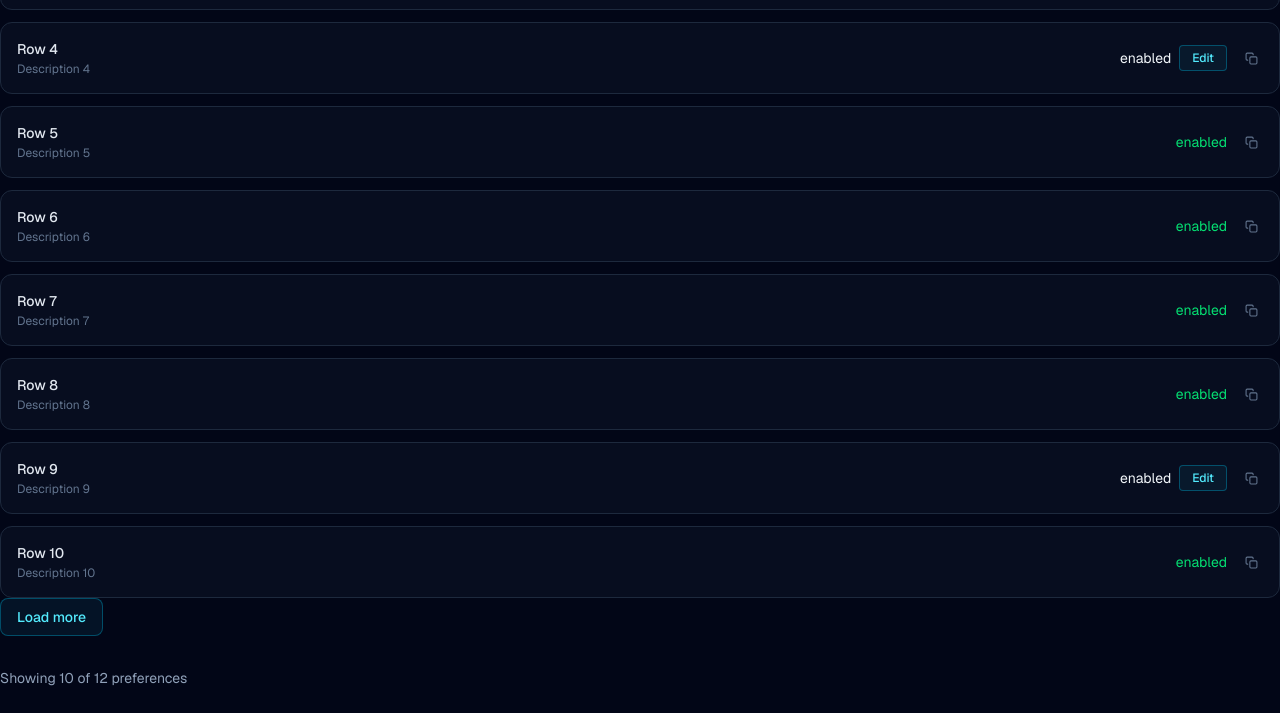
Test: SettingsPage – end-of-list behavior › hides the Load more button once every row is visible (off-by-one middle page)
(page scrolled)
What coordinates should you click on to do the following:
click the button with test id "settings-load-more"
I would click on:
 (52, 617)
Its box is [0, 598, 103, 636].
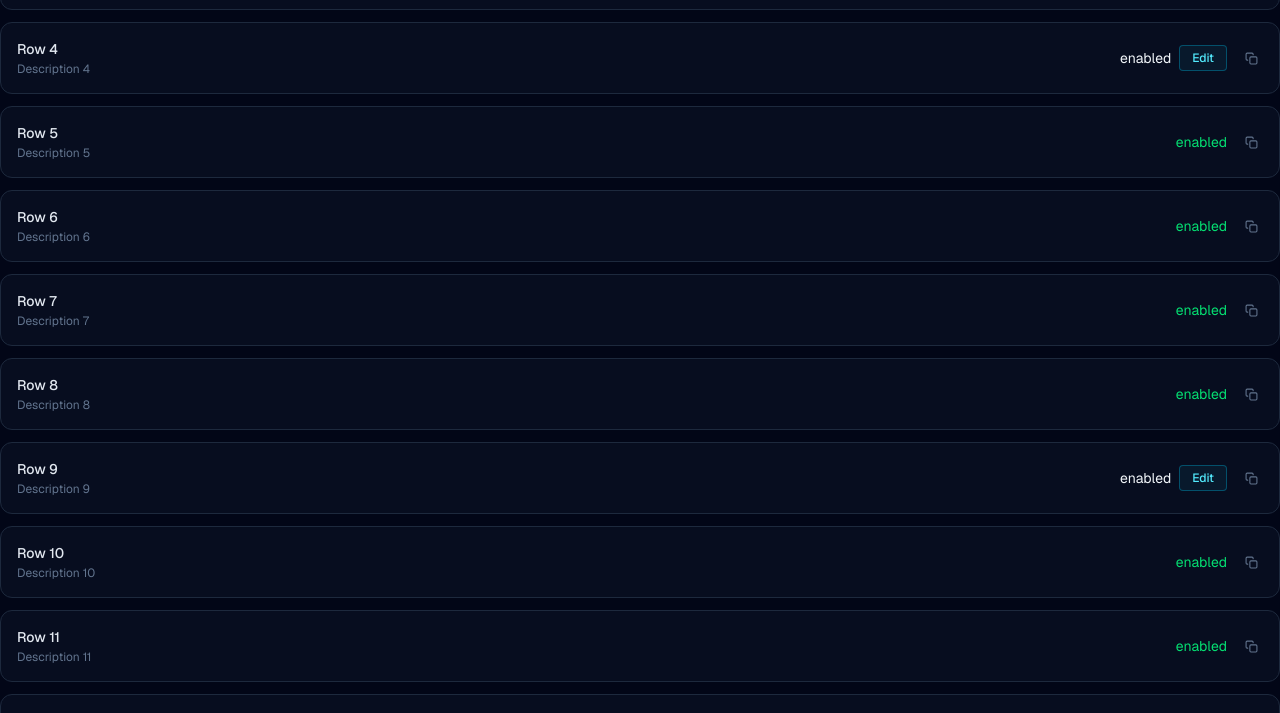
Expected: the button with test id "settings-load-more" is gone
